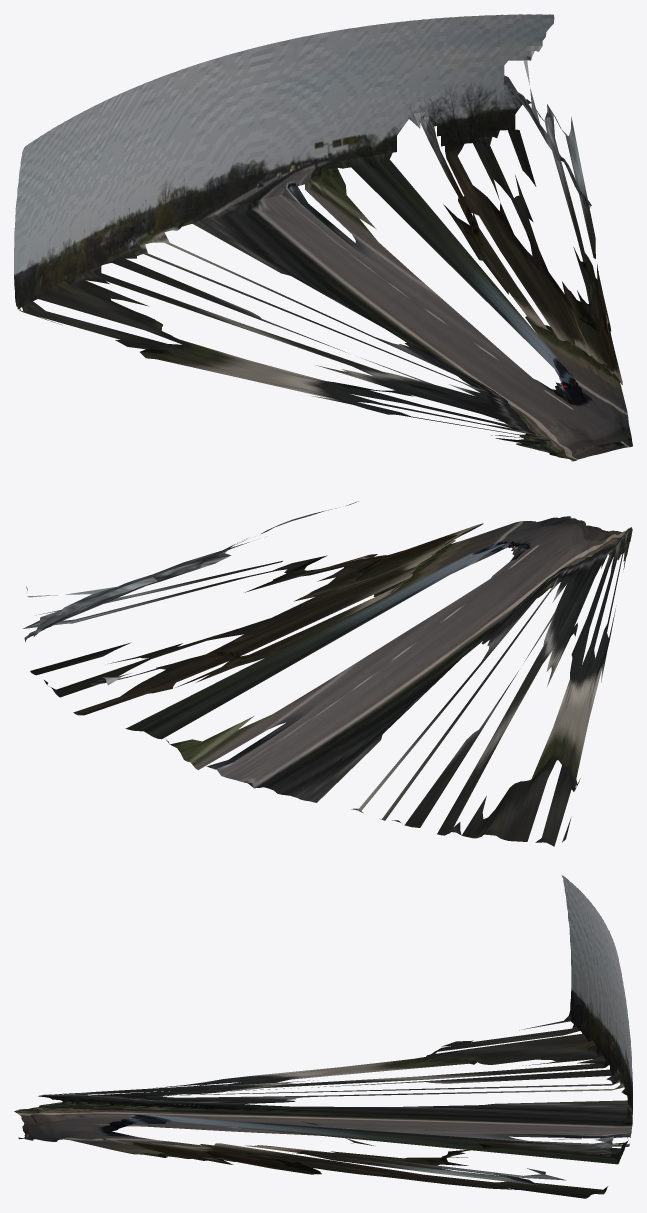
The picture shows the model from 3 angles, top to bottom: view 1: azimuth 30°, elevation 25°; view 2: azimuth 150°, elevation 25°; view 3: azimuth 270°, elevation 25°; orthographic projection. The views are drawn at different scales.
Parts seen in each view (by area): view 1: defaultobject; view 2: defaultobject; view 3: defaultobject.
Part boxes in pixels (left/top/right/bottom): defaultobject: left=14, top=14, right=632, bottom=461; defaultobject: left=23, top=501, right=632, bottom=846; defaultobject: left=14, top=875, right=632, bottom=1198.
Bounding box in the file's own units: 40.06 × 13.24 × 44.87.
Materials: 1 (1 with a texture image).
